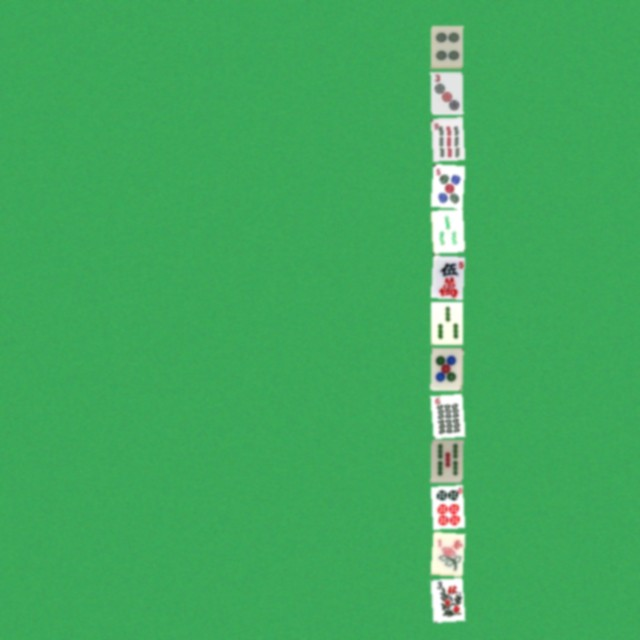tile: (430, 25, 462, 68), (430, 71, 462, 114), (430, 117, 462, 160), (430, 163, 462, 206), (430, 209, 462, 252), (430, 255, 462, 298), (430, 301, 462, 344), (430, 347, 462, 390), (430, 393, 462, 436), (430, 439, 462, 482), (430, 485, 462, 528), (430, 531, 462, 574), (430, 577, 462, 620)
